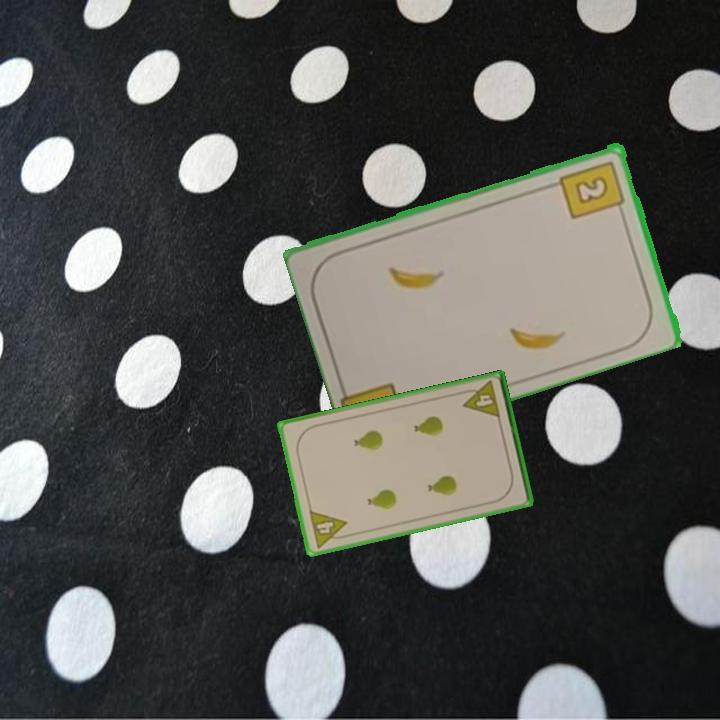2b: (557, 157, 628, 222)
4p: (305, 507, 352, 551), (458, 377, 503, 421)
